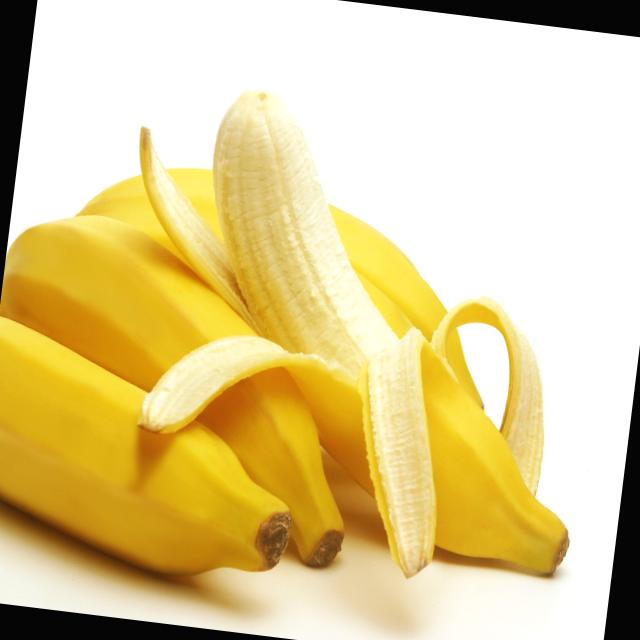banana: (101, 69, 626, 586), (0, 203, 391, 585), (0, 311, 309, 617)
